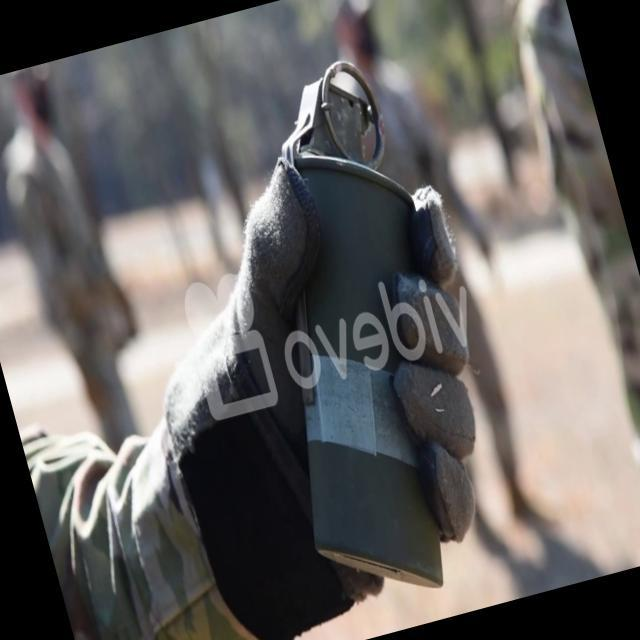grenade: (195, 49, 533, 611)
